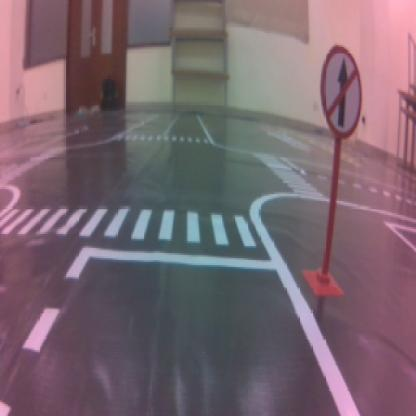camera: (320, 45, 360, 139)
